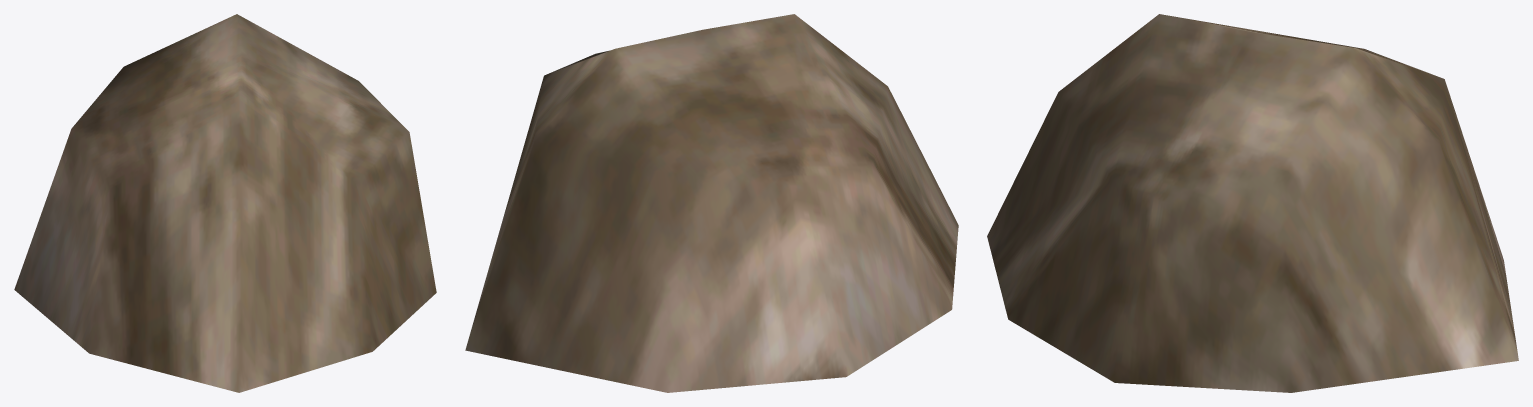
Rendered from OVERHILL_A_01_ROCK202.fbx.
The picture shows the model from 3 angles, left to right: view 1: azimuth 30°, elevation 25°; view 2: azimuth 150°, elevation 25°; view 3: azimuth 270°, elevation 25°; orthographic projection. The views are drawn at different scales.
Visible parts, largest first — view 1: OVERHILL_A_01_ROCK202; view 2: OVERHILL_A_01_ROCK202; view 3: OVERHILL_A_01_ROCK202.
Boxes of the visible parts, x1,y1,x2,y2 form: OVERHILL_A_01_ROCK202: (14,14,436,392); OVERHILL_A_01_ROCK202: (465,14,958,392); OVERHILL_A_01_ROCK202: (987,14,1518,392).
Bounding box in the file's own units: 6636 × 4301 × 7502.
1 material, 1 textured.
